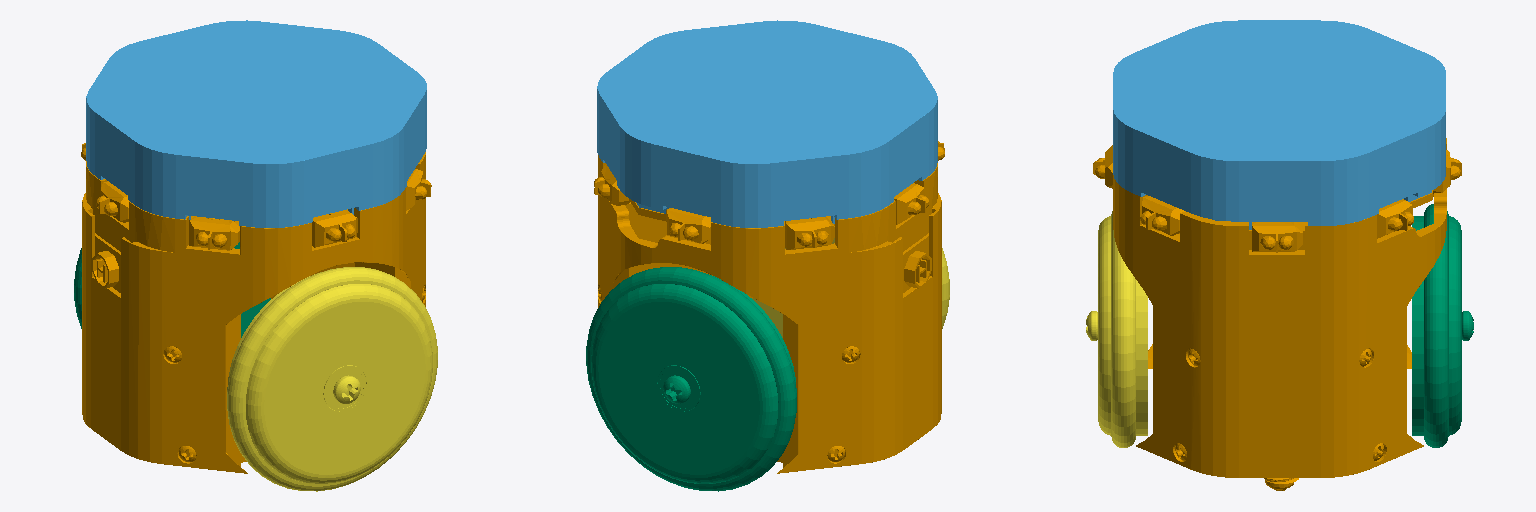
URDF robot description (hero_0):
<?xml version="1.0" encoding="utf-8"?>
<!-- =================================================================================== -->
<!-- |    This document was autogenerated by xacro from hero.urdf.xacro                | -->
<!-- |    EDITING THIS FILE BY HAND IS NOT RECOMMENDED                                 | -->
<!-- =================================================================================== -->
<robot name="hero_0">
  <!-- Here was the base link definitions -->
  <link name="base_link">
    <visual>
      <origin rpy="0 0 1.57079632679" xyz="0 0 0"/>
      <geometry>
        <mesh filename="package://hero_description/meshes/base_link.obj" scale="1 1 1"/>
      </geometry>
    </visual>
    <collision>
      <origin rpy="0 0 1.57079632679" xyz="0 0 0.0121"/>
      <geometry>
        <!-- <cylinde size="0.068 0.068 0.048"/> -->
        <cylinder length="0.042" radius="0.037"/>
        <!-- <mesh filename="package://hero_description/meshes/base_link.dae" scale="1 1 1"/> -->
      </geometry>
    </collision>
    <inertial>
      <mass value="0.090"/>
      <origin rpy="1.57079632679 0 0" xyz="0 0.0002 0"/>
      <inertia ixx="5.925e-05" ixy="0" ixz="0" iyy="5.925e-05" iyz="0" izz="5.5125e-05"/>
    </inertial>
  </link>
  <gazebo reference="base_link">
    <gravity>1</gravity>
    <mu1 value="0.01"/>
    <mu2 value="0.01"/>
    <!-- <maxVel value="0.10"/>  -->
    <maxContacts>4</maxContacts>
    <selfCollide>1</selfCollide>
  </gazebo>
  <!--  Here was the hat joint and link -->
  <joint name="hat_joint" type="fixed">
    <origin rpy="0 0 0" xyz="-0.00245 -0.00216 0.06027"/>
    <parent link="base_link"/>
    <child link="hat_link"/>
  </joint>
  <link name="hat_link">
    <visual>
      <origin rpy="0 0 0" xyz="0 0 0"/>
      <geometry>
        <mesh filename="package://hero_description/meshes/hat.obj" scale="1 1 1"/>
      </geometry>
    </visual>
    <collision>
      <origin rpy="0 0 0" xyz="0 0 0"/>
      <geometry>
        <!-- <box size="0.068 0.068 0.02"/> -->
        <!-- <cylinder length="0.02" radius="0.040"/> -->
        <mesh filename="package://hero_description/meshes/hat.obj" scale="1 1 1"/>
      </geometry>
    </collision>
    <inertial>
      <mass value="0.010"/>
      <origin rpy="0 0 0" xyz="0 0 0"/>
      <inertia ixx="3.39583333333e-06" ixy="0" ixz="0" iyy="3.39583333333e-06" iyz="0" izz="6.125e-06"/>
    </inertial>
  </link>
  <gazebo reference="hat_link">
    <gravity>1</gravity>
    <!-- <mu1 value="0.005"/>
    <mu2 value="0.005"/> -->
    <maxVel value="0.10"/>
    <maxContacts>0</maxContacts>
    <selfCollide>0</selfCollide>
  </gazebo>
  <!--  Here was the left wheel joint and link -->
  <joint name="left_wheel_joint" type="continuous">
    <parent link="base_link"/>
    <child link="left_wheel_link"/>
    <origin rpy="0 0 0" xyz="0.0 0.0323 0.01548"/>
    <axis xyz="0 1 0"/>
    <limit effort="0.1" velocity="0.3"/>
    <dynamics damping="0.0001" friction="0.0"/>
  </joint>
  <link name="left_wheel_link">
    <visual>
      <origin rpy="0 0 0" xyz="0 0 0.0"/>
      <geometry>
        <mesh filename="package://hero_description/meshes/wheel.obj" scale="1 1 1"/>
      </geometry>
    </visual>
    <collision>
      <origin rpy="1.57079632679 0 0" xyz="0 0 0.0"/>
      <geometry>
        <cylinder length="0.008" radius="0.025"/>
      </geometry>
    </collision>
    <inertial>
      <mass value="0.020"/>
      <origin rpy="1.57079632679 0 0" xyz="0 0 0"/>
      <inertia ixx="1.61583333333e-06" ixy="0" ixz="0" iyy="1.61583333333e-06" iyz="0" izz="3.125e-06"/>
    </inertial>
  </link>
  <gazebo reference="left_wheel_link">
    <mu1 value="1.0"/>
    <mu2 value="1.0"/>
    <!-- <maxVel value="0.10"/>  -->
    <!-- <kp value="10000000.0"/>
    <kd value="1.0"/>
    <fdir1 value="1 0 0"/> -->
    <gravity>1</gravity>
    <maxContacts>4</maxContacts>
    <selfCollide>0</selfCollide>
  </gazebo>
  <!--  Here was the right wheel joint and link -->
  <joint name="right_wheel_joint" type="continuous">
    <axis xyz="0 1 0"/>
    <limit effort="0.1" velocity="0.3"/>
    <dynamics damping="0.0001" friction="0"/>
    <origin rpy="0 0 0" xyz="0.0 -0.0323 0.01548"/>
    <parent link="base_link"/>
    <child link="right_wheel_link"/>
  </joint>
  <link name="right_wheel_link">
    <visual>
      <origin rpy="-3.14159265359 0 0" xyz="0 0 0.0"/>
      <geometry>
        <mesh filename="package://hero_description/meshes/wheel.obj" scale="1 1 1"/>
      </geometry>
    </visual>
    <collision>
      <origin rpy="-1.57079632679 0 0" xyz="0 0 0.0"/>
      <geometry>
        <cylinder length="0.008" radius="0.025"/>
      </geometry>
    </collision>
    <inertial>
      <mass value="0.020"/>
      <origin rpy="-1.57079632679 0 0" xyz="0 0 0"/>
      <inertia ixx="1.61583333333e-06" ixy="0" ixz="0" iyy="1.61583333333e-06" iyz="0" izz="3.125e-06"/>
    </inertial>
  </link>
  <gazebo reference="right_wheel_link">
    <mu1 value="1.0"/>
    <mu2 value="1.0"/>
    <!-- <maxVel value="0.10"/>  -->
    <!-- <kp value="10000000.0"/>
    <kd value="1.0"/>
    <fdir1 value="1 0 0"/> -->
    <gravity>1</gravity>
    <maxContacts>4</maxContacts>
    <selfCollide>0</selfCollide>
  </gazebo>
  <!-- ros_control plugin -->
  <gazebo>
    <plugin filename="libgazebo_ros_control.so" name="gazebo_ros_control">
      <!--robotNamespace>/</robotNamespace-->
      <legacyModeNS>true</legacyModeNS>
      <controlPeriod>0.60</controlPeriod>
    </plugin>
  </gazebo>
  <!-- Differential drive controller plugin -->
  <gazebo>
    <plugin filename="libgazebo_ros_diff_drive.so" name="differential_drive_controller">
      <!--robotNamespace>/</robotNamespace-->
      <alwaysOn>true</alwaysOn>
      <updateRate>15</updateRate>
      <leftJoint>left_wheel_joint</leftJoint>
      <rightJoint>right_wheel_joint</rightJoint>
      <wheelSeparation>0.0646</wheelSeparation>
      <wheelDiameter>0.05</wheelDiameter>
      <torque>0.03</torque>
      <commandTopic>cmd_vel</commandTopic>
      <odometryTopic>odom</odometryTopic>
      <odometryFrame>odom</odometryFrame>
      <odometrySource>world</odometrySource>
      <robotBaseFrame>base_link</robotBaseFrame>
      <rosDebugLevel>na</rosDebugLevel>
      <legacyMode>true</legacyMode>
      <publishOdomTF>true</publishOdomTF>
      <publishWheelTF>true</publishWheelTF>
      <publishWheelJointState>false</publishWheelJointState>
      <wheelAcceleration>0.0</wheelAcceleration>
      <publishTf>true</publishTf>
      <wheelTorque>0.5</wheelTorque>
    </plugin>
  </gazebo>
  <!-- Color plugin -->
  <gazebo reference="hat_link">
    <visual>
      <plugin filename="libgazebo_ros_hero_color.so" name="libgazebo_ros_hero_color">
        <!--robotNamespace>/</robotNamespace-->
        <serviceName>led</serviceName>
        <topicName>led</topicName>
        <color>0.0 0.5 0.9 1.0</color>
      </plugin>
    </visual>
  </gazebo>
  <!-- Here is the left joint transmission to gazebo -->
  <transmission name="left_wheel_tran">
    <type>transmission_interface/SimpleTransmission</type>
    <joint name="left_wheel_joint">
      <hardwareInterface>hardware_interface/EffortJointInterface</hardwareInterface>
    </joint>
    <actuator name="left_wheel_motor">
      <mechanicalReduction>1</mechanicalReduction>
      <hardwareInterface>hardware_interface/EffortJointInterface</hardwareInterface>
    </actuator>
  </transmission>
  <!-- Here is the right joint transmission to gazebo -->
  <transmission name="right_wheel_tran">
    <type>transmission_interface/SimpleTransmission</type>
    <joint name="right_wheel_joint">
      <hardwareInterface>hardware_interface/EffortJointInterface</hardwareInterface>
    </joint>
    <actuator name="right_wheel_motor">
      <mechanicalReduction>1</mechanicalReduction>
      <hardwareInterface>hardware_interface/EffortJointInterface</hardwareInterface>
    </actuator>
  </transmission>
  <!-- Here is the laser link -->
  <joint name="laser_joint" type="fixed">
    <axis xyz="0 1 0"/>
    <origin rpy="0 0 0" xyz="0 0 0.051"/>
    <parent link="base_link"/>
    <child link="laser_link"/>
  </joint>
  <link name="laser_link">
    <collision>
      <origin rpy="0 0 0" xyz="0 0 0"/>
      <geometry>
        <box size="0.001 0.001 0.001"/>
      </geometry>
    </collision>
    <visual>
      <origin rpy="0 0 0" xyz="0 0 0"/>
      <geometry>
        <box size="0.001 0.001 0.001"/>
      </geometry>
    </visual>
    <inertial>
      <mass value="1e-5"/>
      <origin rpy="0 0 0" xyz="0 0 0"/>
      <inertia ixx="1e-6" ixy="0" ixz="0" iyy="1e-6" iyz="0" izz="1e-6"/>
    </inertial>
  </link>
  <gazebo reference="laser_link">
    <gravity>1</gravity>
    <!-- <mu1 value="0.005"/>
    <mu2 value="0.005"/> -->
    <maxVel value="0.10"/>
    <maxContacts>0</maxContacts>
    <selfCollide>0</selfCollide>
  </gazebo>
  <!-- Laser plugin -->
  <gazebo reference="laser_link">
    <sensor name="hero_laser_sensor" type="ray">
      <pose>0 0 0.051 0 0 0</pose>
      <visualize>true</visualize>
      <update_rate>20</update_rate>
      <ray>
        <scan>
          <horizontal>
            <samples>360</samples>
            <resolution>1</resolution>
            <min_angle>-3.14159265359</min_angle>
            <max_angle>3.14159265359</max_angle>
          </horizontal>
        </scan>
        <range>
          <min>0.037</min>
          <max>0.50</max>
          <resolution>0.01</resolution>
        </range>
      </ray>
      <plugin filename="libgazebo_ros_laser.so" name="gazebo_ros_hero_laser">
        <topicName>laser</topicName>
        <frameName>laser_link</frameName>
        <gaussianNoise>0.001</gaussianNoise>
        <updateRate>20</updateRate>
      </plugin>
    </sensor>
  </gazebo>
  <!-- IMU plugin -->
<!--   <gazebo>
    <plugin filename="libgazebo_ros_imu.so" name="imu_plugin">
      <alwaysOn>true</alwaysOn>
      <bodyName>hat_link</bodyName>
      <topicName>imu</topicName>
      <serviceName>imu_service</serviceName>
      <gaussianNoise>0.0</gaussianNoise>
      <updateRate>20.0</updateRate>
      <xyzOffset>0 0 0</xyzOffset>
      <rpyOffset>0 0 0</rpyOffset>
    </plugin>
  </gazebo> -->
</robot>

--- Facts derived from the render (not from the file) ---
The picture shows the robot from 3 angles, left to right: view 1: azimuth 30°, elevation 25°; view 2: azimuth 150°, elevation 25°; view 3: azimuth 270°, elevation 25°; orthographic projection.
Model hero_0 with 5 links and 4 joints (2 continuous, 2 fixed), rooted at base_link, posed all joints at 0.
Links seen in each view (by area): view 1: hat_link, base_link, right_wheel_link, left_wheel_link; view 2: hat_link, base_link, left_wheel_link, right_wheel_link; view 3: base_link, hat_link, left_wheel_link, right_wheel_link.
Link boxes in pixels (<box>): hat_link: <box>86,20,426,227</box>; base_link: <box>81,143,431,473</box>; right_wheel_link: <box>227,267,437,491</box>; left_wheel_link: <box>74,242,270,337</box>; hat_link: <box>597,20,937,227</box>; base_link: <box>594,141,944,473</box>; left_wheel_link: <box>586,267,796,491</box>; right_wheel_link: <box>753,238,949,337</box>; base_link: <box>1093,138,1461,490</box>; hat_link: <box>1113,20,1445,229</box>; left_wheel_link: <box>1412,204,1473,447</box>; right_wheel_link: <box>1086,211,1147,447</box>.
Bounding box of the posed robot: 0.0737 × 0.0777 × 0.0766 m (x, y, z).
4 mesh visuals loaded from 3 distinct referenced files (3 OBJ).
